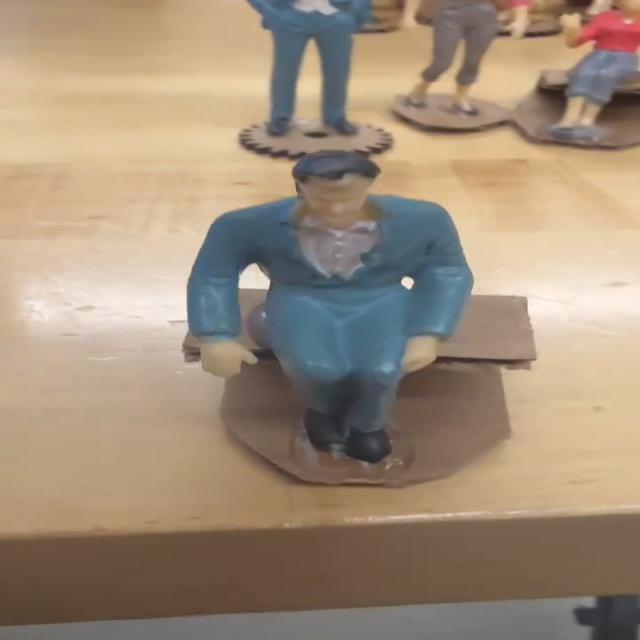Authorized: (158, 145, 484, 477)
